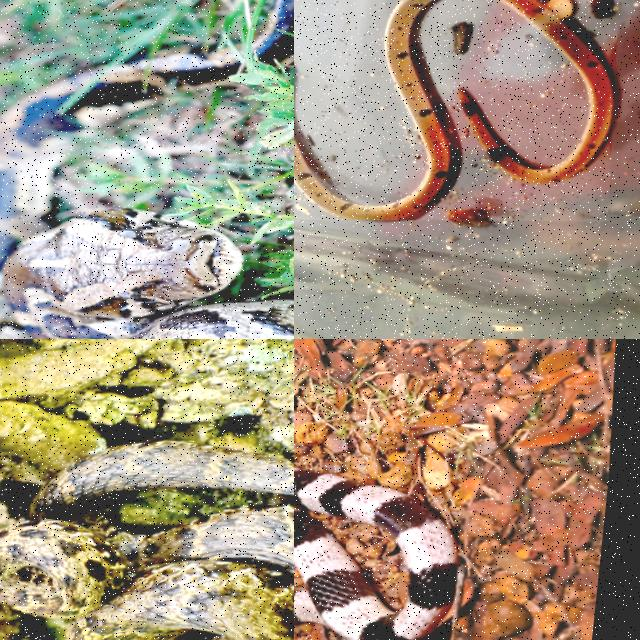Bungarus candidus: (294, 469, 458, 639)
Calliophis maculiceps: (294, 0, 450, 219)
Ovophis monticola: (0, 442, 293, 639)
Python bivittatus: (0, 49, 293, 338)
